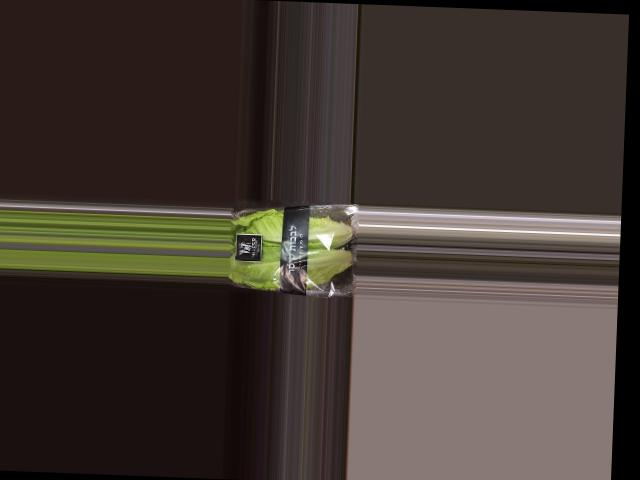lettuce: (229, 200, 359, 291)
